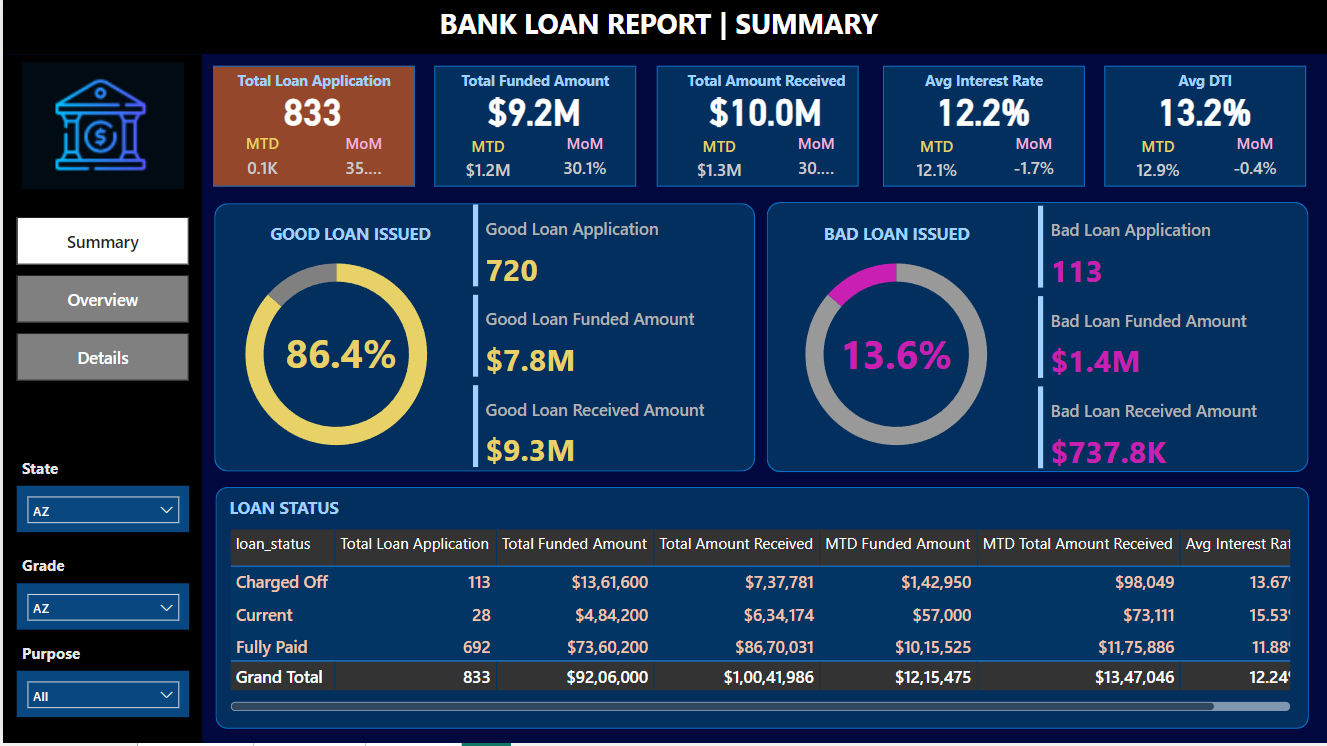

This screenshot's page, from the dashboard's own definition file:
{"tool":"powerbi","page":{"name":"Summary","canvas":[1280,720],"ordinal":0},"visuals":[{"type":"shape","box":[0,0,1280.3,55],"z":0},{"type":"shape","box":[0,55.2,192.4,664.9],"z":1000},{"type":"textbox","box":[415.8,2.7,447.3,48],"z":2000},{"type":"group","id":"g1","title":"Group 1","box":[203.1,65.9,194.9,118],"z":3000},{"type":"shape","box":[203.1,65.9,194.9,116.6],"z":3000,"group":"g1"},{"type":"shape","box":[415.8,65.9,194.9,116.6],"z":3000,"group":"g2"},{"type":"shape","box":[630.7,65.9,194.9,116.6],"z":3000,"group":"g3"},{"type":"shape","box":[849.8,65.9,194.9,116.6],"z":3000,"group":"g4"},{"type":"shape","box":[1063.5,65.9,194.9,116.6],"z":3000,"group":"g5"},{"type":"card","fields":{"Values":["bank_loan_data.Total Loan Application"]},"box":[225.1,85.1,149.6,45.3],"z":4000,"group":"g1"},{"type":"card","fields":{"Values":["bank_loan_data.Total Funded Amount"]},"box":[437.8,85.1,149.6,45.3],"z":4000,"group":"g2"},{"type":"card","fields":{"Values":["bank_loan_data.Total Amount Received"]},"box":[661.4,85.1,149.6,45.3],"z":4000,"group":"g3"},{"type":"card","fields":{"Values":["bank_loan_data.Avg Interest Rate"]},"box":[871.8,85.1,149.6,45.3],"z":4000,"group":"g4"},{"type":"card","fields":{"Values":["bank_loan_data.Avg DTI"]},"box":[1085.5,85.1,149.6,45.3],"z":4000,"group":"g5"},{"type":"shape","box":[203.7,199.5,522,258.9],"z":4000},{"type":"textbox","box":[203.1,65.9,194.9,32.9],"z":5000,"group":"g1"},{"type":"group","id":"g2","title":"Group 1","box":[415.8,65.9,194.9,118],"z":5000},{"type":"textbox","box":[415.8,65.9,194.9,32.9],"z":5000,"group":"g2"},{"type":"textbox","box":[639.4,65.9,194.9,32.9],"z":5000,"group":"g3"},{"type":"textbox","box":[849.8,65.9,194.9,32.9],"z":5000,"group":"g4"},{"type":"textbox","box":[1063.5,65.9,194.9,32.9],"z":5000,"group":"g5"},{"type":"card","title":"MTD","fields":{"Values":["bank_loan_data.MTD Loan Application"]},"box":[225.1,130.4,52.1,53.5],"z":6000,"group":"g1"},{"type":"card","title":"MTD","fields":{"Values":["bank_loan_data.MTD Funded Amount"]},"box":[432.6,133.3,70,50.8],"z":6000,"group":"g2"},{"type":"card","title":"MTD","fields":{"Values":["bank_loan_data.MTD Total Amount Received"]},"box":[656.2,133.3,70,50.8],"z":6000,"group":"g3"},{"type":"card","title":"MTD","fields":{"Values":["bank_loan_data.MTD Avg Interest Rate"]},"box":[866.6,133.3,70,50.8],"z":6000,"group":"g4"},{"type":"card","title":"MTD","fields":{"Values":["bank_loan_data.MTD Avg DTI"]},"box":[1080.3,133.3,70,50.8],"z":6000,"group":"g5"},{"type":"card","fields":{"Values":["bank_loan_data.Good Loan %"]},"box":[251.8,321.1,148.5,45.3],"z":6000},{"type":"card","title":"MoM","fields":{"Values":["bank_loan_data.MoM Loan Application"]},"box":[322.5,130.4,52.1,53.5],"z":7000,"group":"g1"},{"type":"card","title":"MoM","fields":{"Values":["bank_loan_data.MoM Total Funded Amount"]},"box":[535.2,130.4,52.1,53.5],"z":7000,"group":"g2"},{"type":"card","title":"MoM","fields":{"Values":["bank_loan_data.MoM Total Amount Received"]},"box":[758.8,130.4,52.1,53.5],"z":7000,"group":"g3"},{"type":"card","title":"MoM","fields":{"Values":["bank_loan_data.MoM Avg Interest Rate"]},"box":[969.2,130.4,52.1,53.5],"z":7000,"group":"g4"},{"type":"card","title":"MoM","fields":{"Values":["bank_loan_data.MoM Avg DTI"]},"box":[1182.9,130.4,52.1,53.5],"z":7000,"group":"g5"},{"type":"textbox","box":[237.7,212.2,195.2,32.5],"z":7000},{"type":"group","id":"g3","title":"Group 1","box":[630.7,65.9,203.6,118.2],"z":8000},{"type":"group","id":"g4","title":"Group 1","box":[849.8,65.9,194.9,118],"z":9000},{"type":"group","id":"g5","title":"Group 1","box":[1063.5,65.9,194.9,118],"z":10000},{"type":"shape","box":[736.9,197.6,522.8,260.7],"z":11000},{"type":"donutChart","fields":{"Category":["bank_loan_data.GOOD VS BAD loan"],"Y":["bank_loan_data.Total Loan Application"]},"box":[196.6,230.6,250.4,229.2],"z":12000},{"type":"cardVisual","fields":{"Data":["bank_loan_data.Good Loan Application","bank_loan_data.Good Loan Funded Amount","bank_loan_data.Good Loan Received Amount"]},"box":[448.5,195.2,266,264.5],"z":13000},{"type":"donutChart","fields":{"Category":["bank_loan_data.GOOD VS BAD loan"],"Y":["bank_loan_data.Total Loan Application"]},"box":[737,230.6,250.4,229.2],"z":14000},{"type":"textbox","box":[765.3,212.2,195.2,32.5],"z":15000},{"type":"card","fields":{"Values":["bank_loan_data.Bad Loan %"]},"box":[788,322.5,148.5,45.3],"z":16000},{"type":"cardVisual","fields":{"Data":["bank_loan_data.Bad Loan Application","bank_loan_data.Bad Loan Funded Amount","bank_loan_data.Bad Loan Received Amount"]},"box":[994.5,196.6,266,264.5],"z":17000},{"type":"shape","box":[205.1,472.5,1055.4,233.4],"z":18000},{"type":"tableEx","fields":{"Values":["bank_loan_data.loan_status","bank_loan_data.Total Loan Application","bank_loan_data.Total Funded Amount","bank_loan_data.Total Amount Received","bank_loan_data.MTD Funded Amount","bank_loan_data.MTD Total Amount Received","bank_loan_data.Avg Interest Rate","bank_loan_data.Avg DTI"]},"box":[213.6,509.3,1034.1,185.3],"z":19000},{"type":"textbox","box":[213.6,476.7,195.2,32.5],"z":20000},{"type":"slicer","fields":{"Values":["bank_loan_data.address_state"]},"box":[13.3,471.7,166.5,44.6],"z":21000},{"type":"textbox","box":[13.3,439.1,65.1,32.6],"z":22000},{"type":"slicer","fields":{"Values":["bank_loan_data.address_state"]},"box":[13.3,565.8,166.5,44.6],"z":23000},{"type":"slicer","fields":{"Values":["bank_loan_data.address_state"]},"box":[13.3,650.3,166.5,44.6],"z":24000},{"type":"textbox","box":[13.3,533.2,65.1,32.6],"z":25000},{"type":"textbox","box":[13.3,617.7,83.2,32.6],"z":26000},{"type":"image","box":[13.3,44.6,166.5,159.3],"z":27000},{"type":"pageNavigator","box":[13.3,212.3,166.5,159.3],"z":28000}]}

Visuals, with their boxes in screenshot pixels (x1, y1, x2, y2), scaled from the page's 1280x720 canvas onto the 1327x746 screenshot:
shape: {"left": 0, "top": 0, "right": 1326, "bottom": 57}
shape: {"left": 0, "top": 57, "right": 199, "bottom": 745}
textbox: {"left": 431, "top": 3, "right": 895, "bottom": 53}
"Group 1" group: {"left": 211, "top": 68, "right": 413, "bottom": 191}
shape: {"left": 211, "top": 68, "right": 413, "bottom": 189}
shape: {"left": 431, "top": 68, "right": 633, "bottom": 189}
shape: {"left": 654, "top": 68, "right": 856, "bottom": 189}
shape: {"left": 881, "top": 68, "right": 1083, "bottom": 189}
shape: {"left": 1103, "top": 68, "right": 1305, "bottom": 189}
card - bank_loan_data.Total Loan Application: {"left": 233, "top": 88, "right": 388, "bottom": 135}
card - bank_loan_data.Total Funded Amount: {"left": 454, "top": 88, "right": 609, "bottom": 135}
card - bank_loan_data.Total Amount Received: {"left": 686, "top": 88, "right": 841, "bottom": 135}
card - bank_loan_data.Avg Interest Rate: {"left": 904, "top": 88, "right": 1059, "bottom": 135}
card - bank_loan_data.Avg DTI: {"left": 1125, "top": 88, "right": 1280, "bottom": 135}
shape: {"left": 211, "top": 207, "right": 752, "bottom": 475}
textbox: {"left": 211, "top": 68, "right": 413, "bottom": 102}
"Group 1" group: {"left": 431, "top": 68, "right": 633, "bottom": 191}
textbox: {"left": 431, "top": 68, "right": 633, "bottom": 102}
textbox: {"left": 663, "top": 68, "right": 865, "bottom": 102}
textbox: {"left": 881, "top": 68, "right": 1083, "bottom": 102}
textbox: {"left": 1103, "top": 68, "right": 1305, "bottom": 102}
"MTD" card: {"left": 233, "top": 135, "right": 287, "bottom": 191}
"MTD" card: {"left": 448, "top": 138, "right": 521, "bottom": 191}
"MTD" card: {"left": 680, "top": 138, "right": 753, "bottom": 191}
"MTD" card: {"left": 898, "top": 138, "right": 971, "bottom": 191}
"MTD" card: {"left": 1120, "top": 138, "right": 1193, "bottom": 191}
card - bank_loan_data.Good Loan %: {"left": 261, "top": 333, "right": 415, "bottom": 380}
"MoM" card: {"left": 334, "top": 135, "right": 388, "bottom": 191}
"MoM" card: {"left": 555, "top": 135, "right": 609, "bottom": 191}
"MoM" card: {"left": 787, "top": 135, "right": 841, "bottom": 191}
"MoM" card: {"left": 1005, "top": 135, "right": 1059, "bottom": 191}
"MoM" card: {"left": 1226, "top": 135, "right": 1280, "bottom": 191}
textbox: {"left": 246, "top": 220, "right": 449, "bottom": 254}
"Group 1" group: {"left": 654, "top": 68, "right": 865, "bottom": 191}
"Group 1" group: {"left": 881, "top": 68, "right": 1083, "bottom": 191}
"Group 1" group: {"left": 1103, "top": 68, "right": 1305, "bottom": 191}
shape: {"left": 764, "top": 205, "right": 1306, "bottom": 475}
donutChart - bank_loan_data.GOOD VS BAD loan x bank_loan_data.Total Loan Application: {"left": 204, "top": 239, "right": 463, "bottom": 476}
cardVisual - bank_loan_data.Good Loan Application x bank_loan_data.Good Loan Funded Amount: {"left": 465, "top": 202, "right": 741, "bottom": 476}
donutChart - bank_loan_data.GOOD VS BAD loan x bank_loan_data.Total Loan Application: {"left": 764, "top": 239, "right": 1024, "bottom": 476}
textbox: {"left": 793, "top": 220, "right": 996, "bottom": 254}
card - bank_loan_data.Bad Loan %: {"left": 817, "top": 334, "right": 971, "bottom": 381}
cardVisual - bank_loan_data.Bad Loan Application x bank_loan_data.Bad Loan Funded Amount: {"left": 1031, "top": 204, "right": 1307, "bottom": 478}
shape: {"left": 213, "top": 490, "right": 1307, "bottom": 731}
tableEx - bank_loan_data.loan_status x bank_loan_data.Total Loan Application: {"left": 221, "top": 528, "right": 1294, "bottom": 720}
textbox: {"left": 221, "top": 494, "right": 424, "bottom": 528}
slicer - bank_loan_data.address_state: {"left": 14, "top": 489, "right": 186, "bottom": 535}
textbox: {"left": 14, "top": 455, "right": 81, "bottom": 489}
slicer - bank_loan_data.address_state: {"left": 14, "top": 586, "right": 186, "bottom": 632}
slicer - bank_loan_data.address_state: {"left": 14, "top": 674, "right": 186, "bottom": 720}
textbox: {"left": 14, "top": 552, "right": 81, "bottom": 586}
textbox: {"left": 14, "top": 640, "right": 100, "bottom": 674}
image: {"left": 14, "top": 46, "right": 186, "bottom": 211}
pageNavigator: {"left": 14, "top": 220, "right": 186, "bottom": 385}
